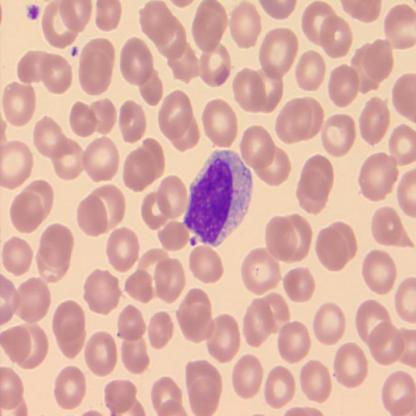Myelocyte: (183, 148, 252, 248)
